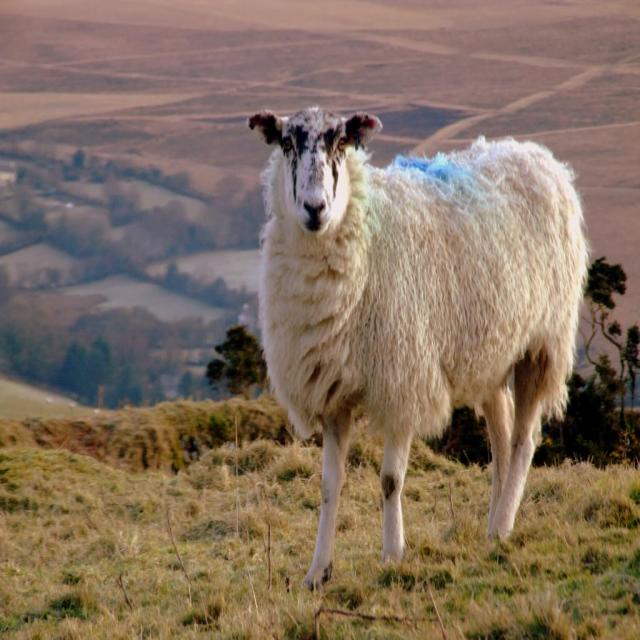Sheep: (246, 104, 596, 592)
